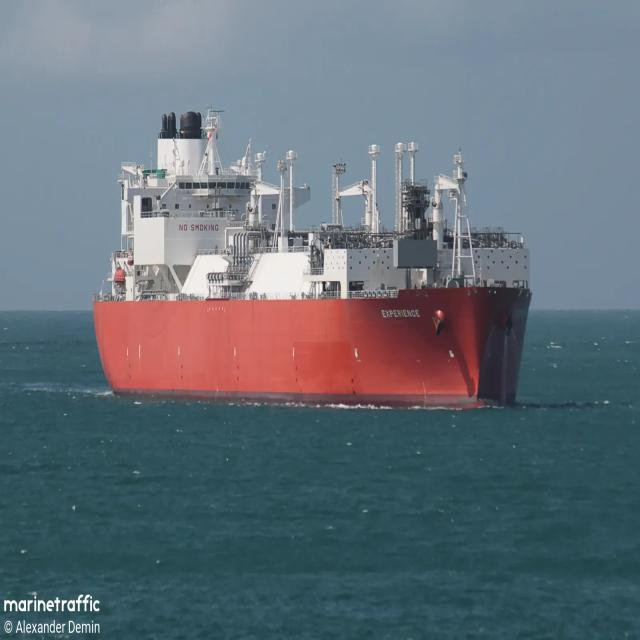Tanker: (94, 110, 532, 408)
